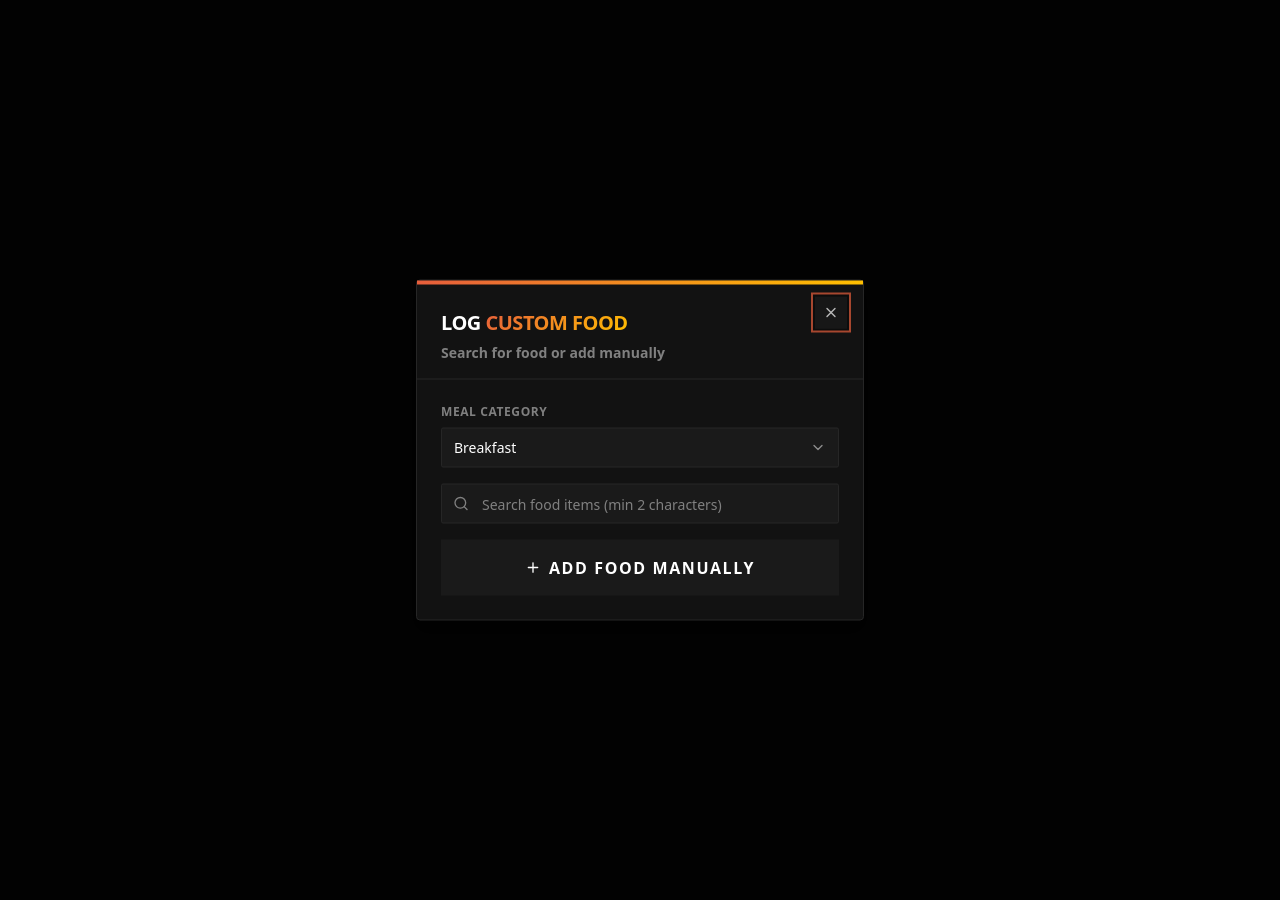
Test case: FoodSearch Component › shows manual entry form when Add Food Manually is clicked
Click the button "Add Food Manually" at (640, 568), box [441,540,839,596]
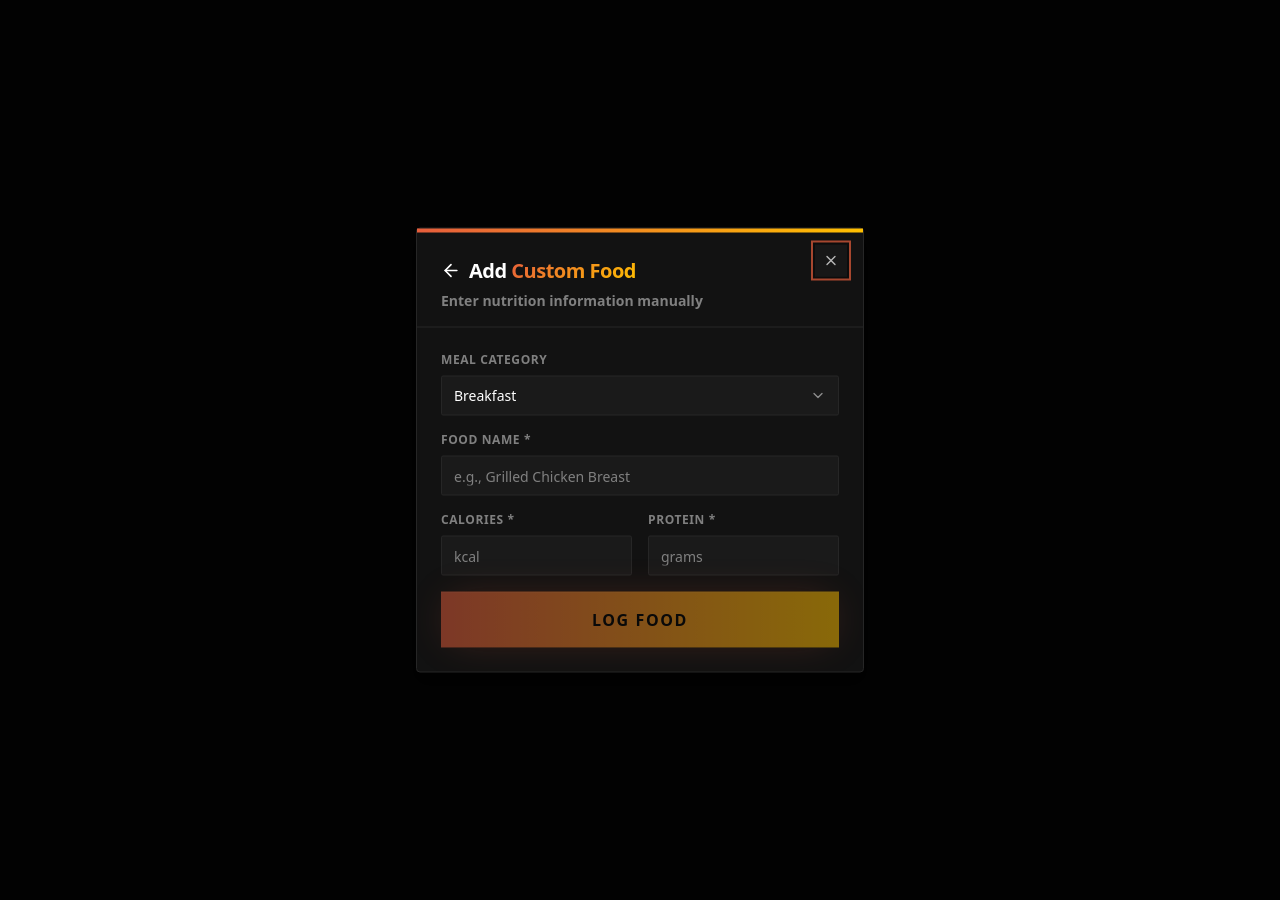
Expected: the field with placeholder "e.g., Grilled Chicken Breast" is shown, [441,456,839,496]
Expected: the number field with placeholder "kcal" is shown, [441,536,632,576]
Expected: the number field with placeholder "grams" is shown, [648,536,839,576]
